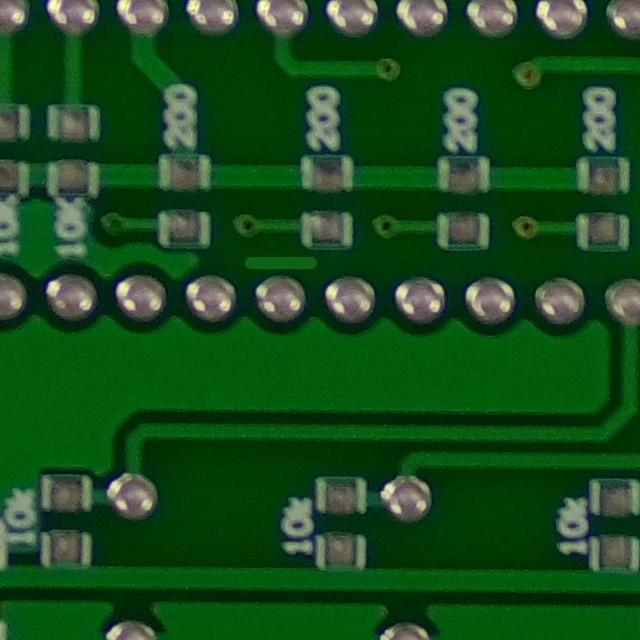spurious_copper: (233, 230, 325, 291)
